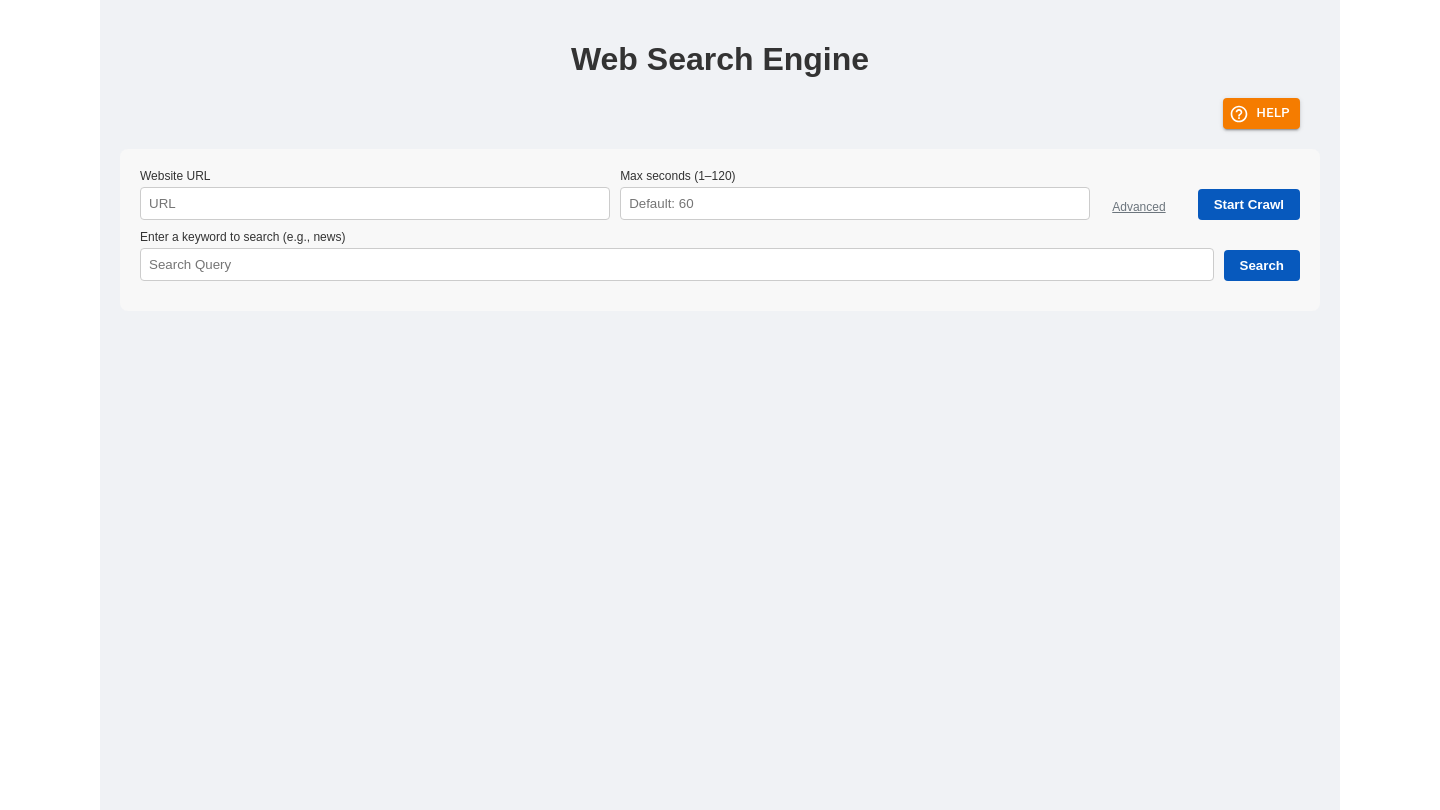
Test: explains the shared crawl limit when the server returns HTTP 429
The image size is (1440, 810).
Type "example.com" into the field labelled "Website URL" at (375, 204), box [140,187,610,220]
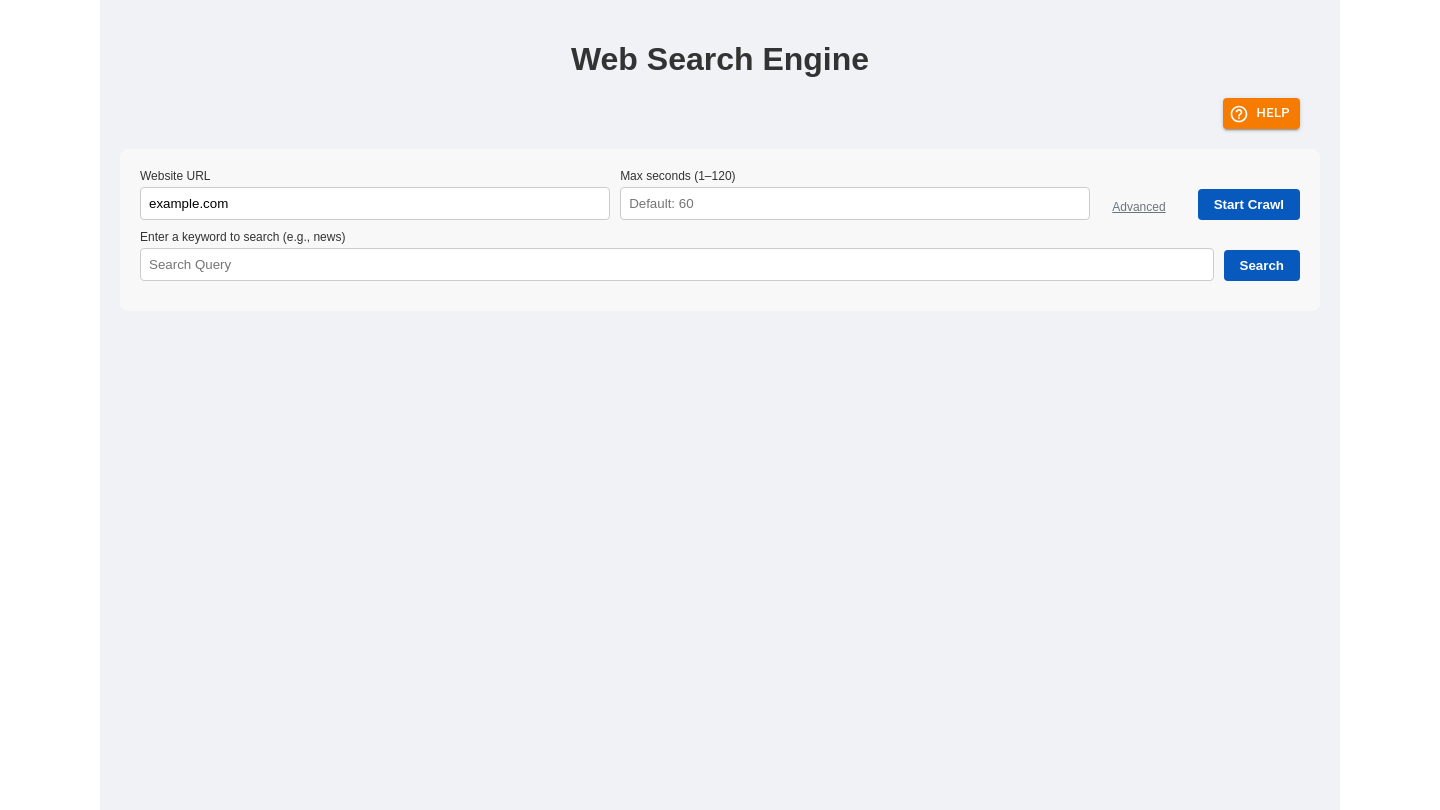
Click the button "Start Crawl" at (1249, 205), box [1198,189,1300,220]
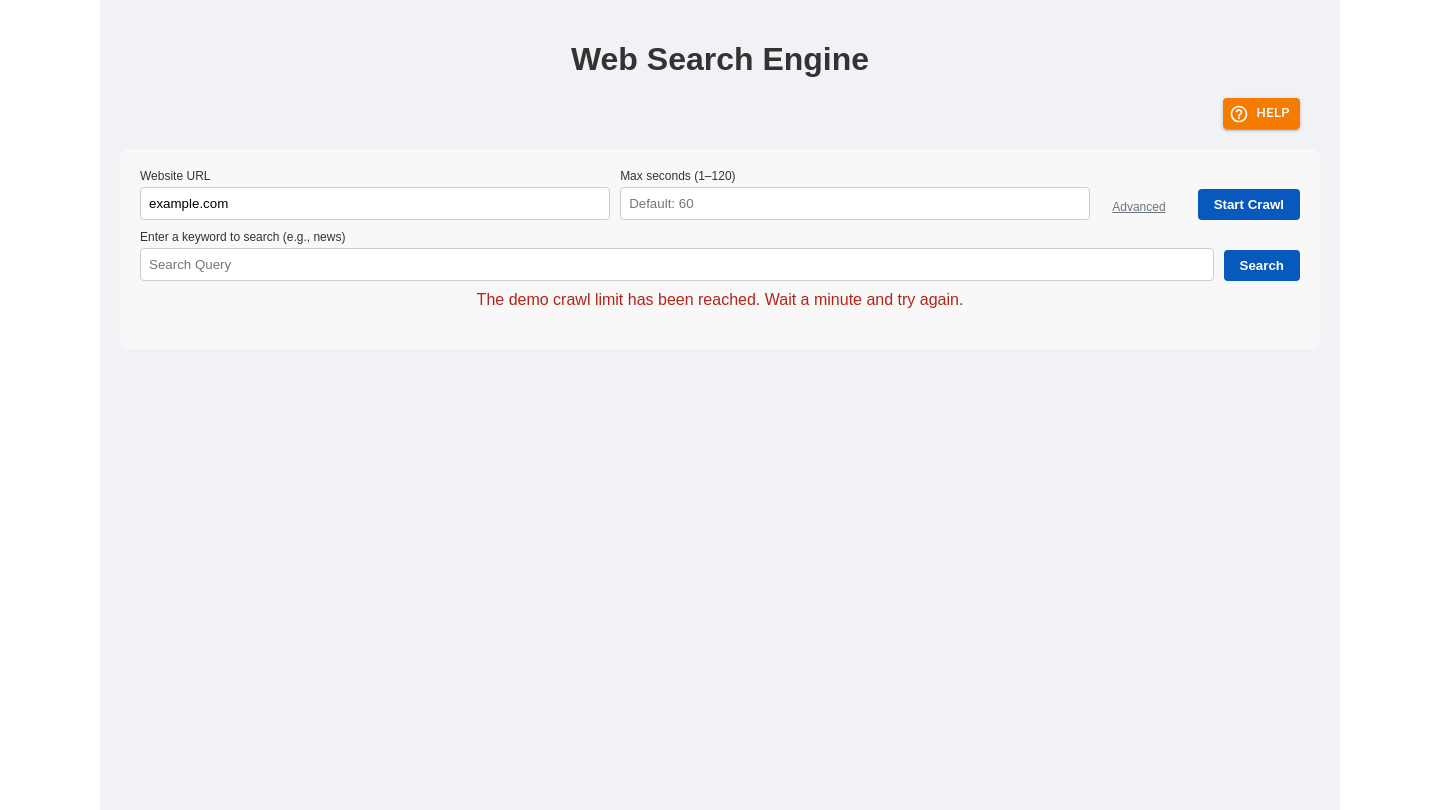
Check: the message shows "Wait a minute and try again.", box [477,291,963,308]
